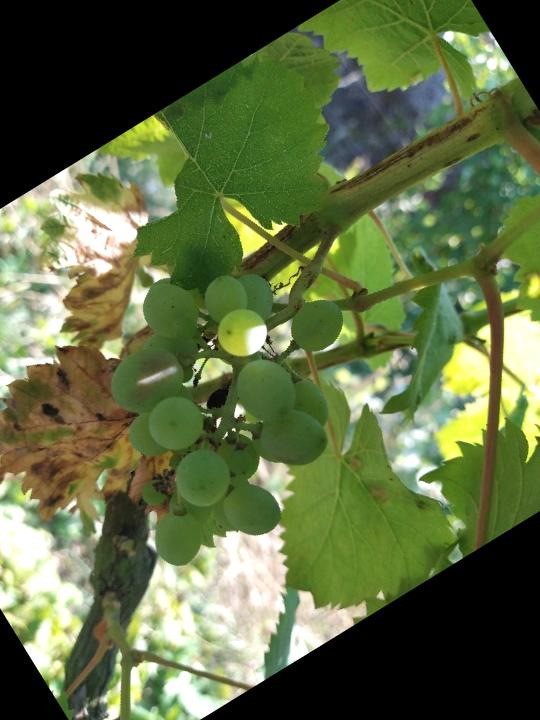grape: (34, 205, 424, 592)
